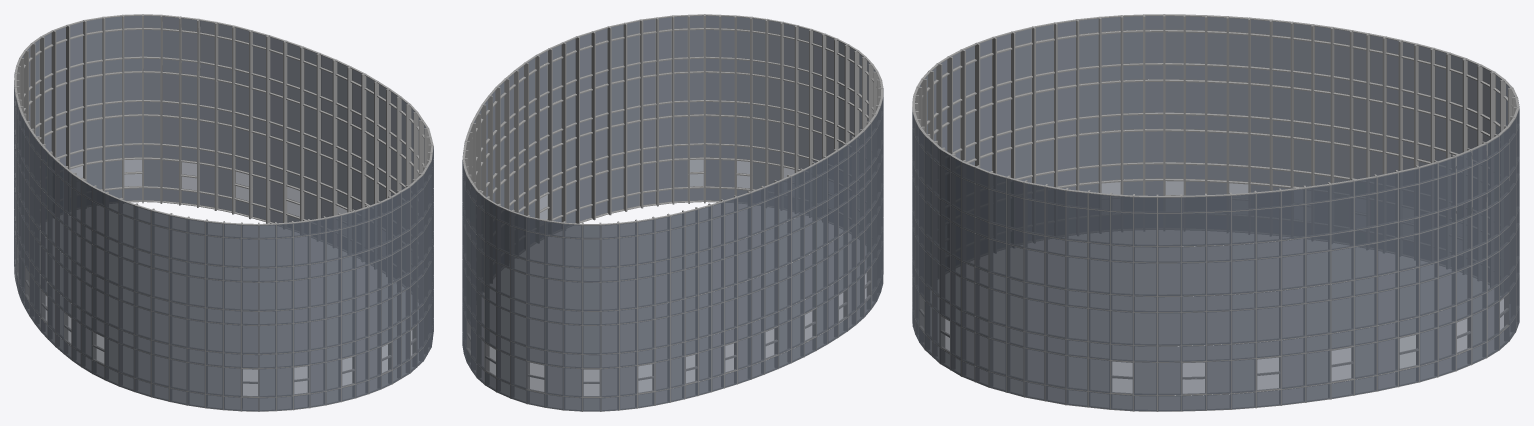
The model's file is Build_B02.fbx.
3 renders of one model, left to right at view 1: azimuth 30°, elevation 25°; view 2: azimuth 150°, elevation 25°; view 3: azimuth 270°, elevation 25°, orthographic. The views are drawn at different scales.
Visible parts, largest first — view 1: polySurface8251, polySurface8295, polySurface8293, polySurface8271, polySurface8272; view 2: polySurface8251, polySurface8295, polySurface8293, polySurface8271, polySurface8272; view 3: polySurface8251, polySurface8295, polySurface8293, polySurface8271, polySurface8272.
Part boxes in pixels (x1,y1,x2,y2): polySurface8251: (14,15,433,411); polySurface8295: (14,14,433,411); polySurface8293: (15,16,431,404); polySurface8271: (17,159,417,383); polySurface8272: (17,174,417,396); polySurface8251: (462,15,883,411); polySurface8295: (462,14,883,411); polySurface8293: (462,16,879,409); polySurface8271: (466,159,871,383); polySurface8272: (466,174,871,396); polySurface8251: (912,16,1519,411); polySurface8295: (912,14,1519,411); polySurface8293: (913,16,1519,407); polySurface8271: (912,181,1509,378); polySurface8272: (912,292,1509,394).
Size of the model in its own units: 2188 by 1198 by 3068.
